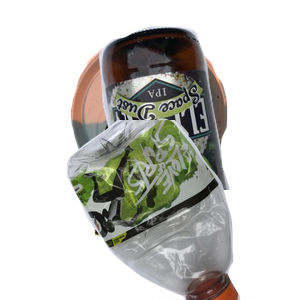glass: (97, 24, 300, 204)
metal: (68, 31, 288, 211)
plastic: (64, 120, 300, 300)
trash: (92, 158, 277, 300)
